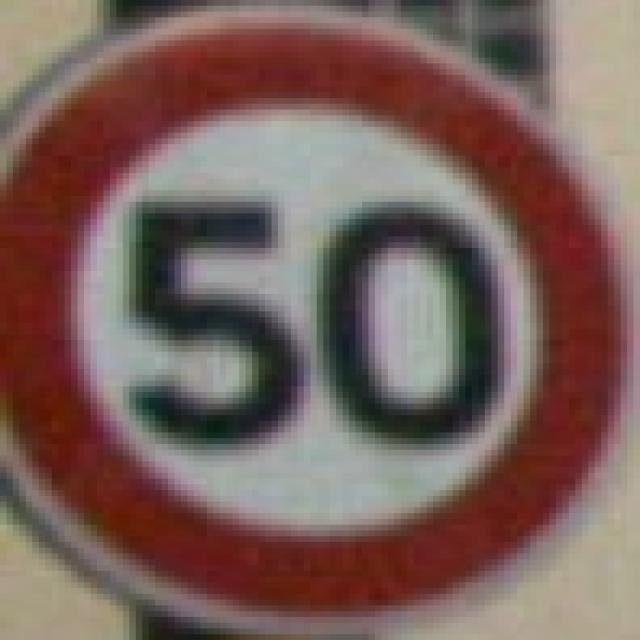speed_50: (0, 0, 634, 634)
